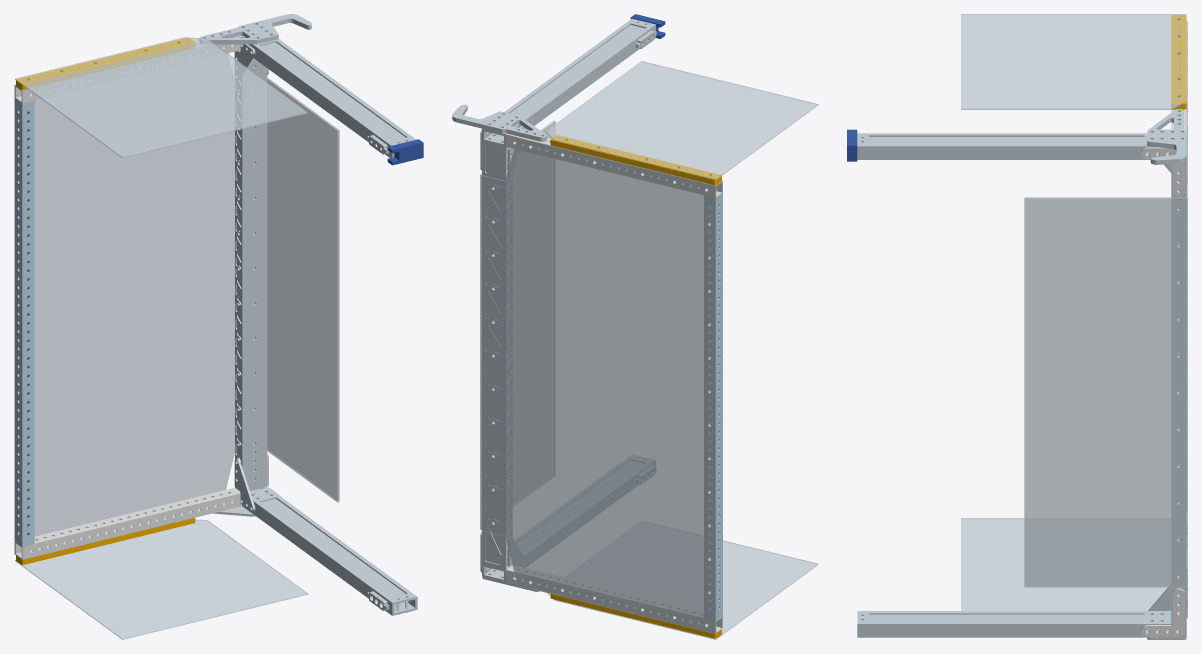
3 views of the same model, side by side, from view 1: azimuth 30°, elevation 25°; view 2: azimuth 150°, elevation 25°; view 3: azimuth 270°, elevation 25° (orthographic). The views are drawn at different scales.
Parts seen in each view (by area): view 1: 1678-26c-0926, 1678-26c-0927 (×2), Part 32, 1678-26a-0918, 1678-26a-0902 (×2), 1678-26c-0925, 1678-26c-0924 (×2), 1678-26c-0933 (×2), 1678-26c-0928, 1678-26a-0922, 1678-26c-0923; view 2: 1678-26c-0926, 1678-26c-0927 (×2), Part 32, 1678-26a-0918, 1678-26a-0902 (×2), 1678-26c-0925, 1678-26c-0924 (×2), 1678-26c-0933 (×2), 1678-26c-0928; view 3: Part 32, 1678-26c-0927 (×2), 1678-26a-0902 (×2), 1678-26a-0918, 1678-26B-1900 <1>, 1678-26c-0928, 1678-26c-0933, 1678-26c-0926.
Part boxes in pixels (box(x1,y1,x2,y2)): 1678-26c-0926: box(14, 54, 234, 554); 1678-26c-0927 (×2): box(15, 37, 308, 639); Part 32: box(267, 77, 339, 502); 1678-26a-0918: box(235, 50, 267, 490); 1678-26a-0902 (×2): box(241, 36, 417, 615); 1678-26c-0925: box(15, 98, 34, 546); 1678-26c-0924 (×2): box(15, 36, 242, 559); 1678-26c-0933 (×2): box(16, 38, 195, 564); 1678-26c-0928: box(199, 14, 311, 44); 1678-26a-0922: box(387, 139, 423, 165); 1678-26c-0923: box(234, 458, 255, 511); 1678-26c-0926: box(481, 137, 715, 633); 1678-26c-0927 (×2): box(545, 61, 818, 639); Part 32: box(480, 120, 555, 529); 1678-26a-0918: box(482, 141, 512, 569); 1678-26a-0902 (×2): box(482, 18, 655, 582); 1678-26c-0925: box(704, 193, 722, 620); 1678-26c-0924 (×2): box(506, 133, 722, 633); 1678-26c-0933 (×2): box(550, 135, 721, 638); 1678-26c-0928: box(452, 104, 546, 141); Part 32: box(1024, 197, 1186, 587); 1678-26c-0927 (×2): box(961, 14, 1186, 610); 1678-26a-0902 (×2): box(857, 133, 1186, 637); 1678-26a-0918: box(1171, 160, 1186, 623); 1678-26B-1900 <1>: box(1141, 147, 1185, 637); 1678-26c-0928: box(1147, 109, 1186, 164); 1678-26c-0933: box(1171, 15, 1186, 109); 1678-26c-0926: box(1186, 21, 1187, 618).
Size of what is drawn, in the model's own units: 0.4271 by 0.6985 by 0.427.
